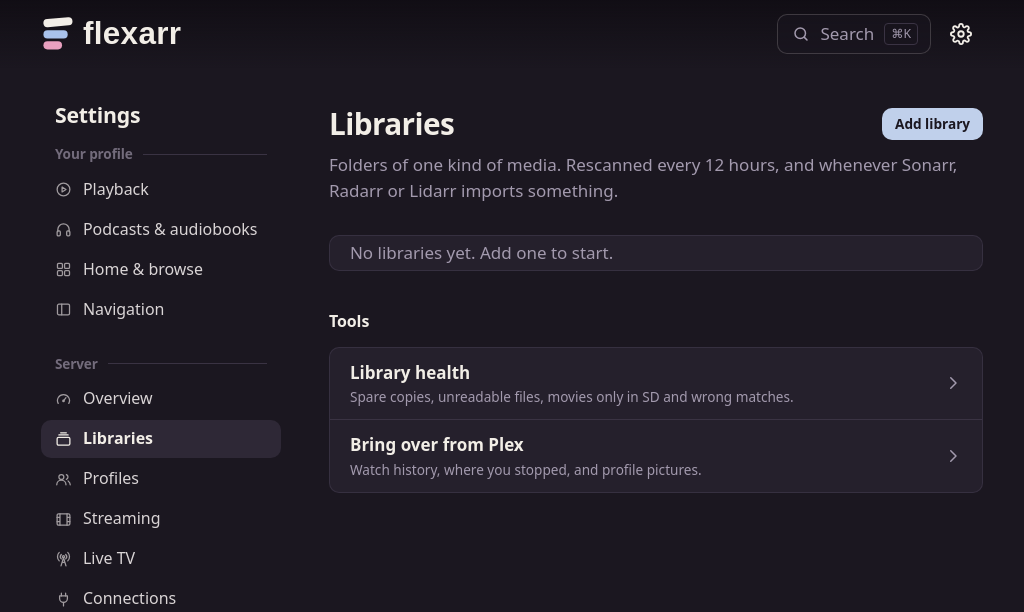
Test case: Settings › shows validation errors from the server when adding a library
The image size is (1024, 612).
Click the button "Add library".
click(932, 124)  # box [882, 108, 983, 140]
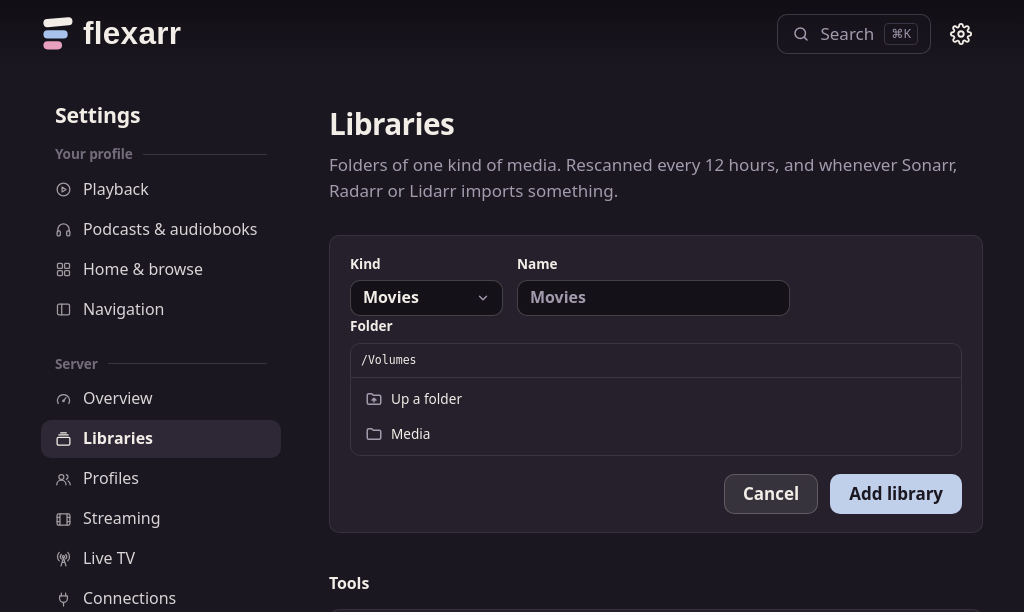
expect the text "/Volumes" is shown: met, box [361, 352, 417, 369]
Click the button "Add library".
click(896, 494)  # box [830, 474, 962, 514]
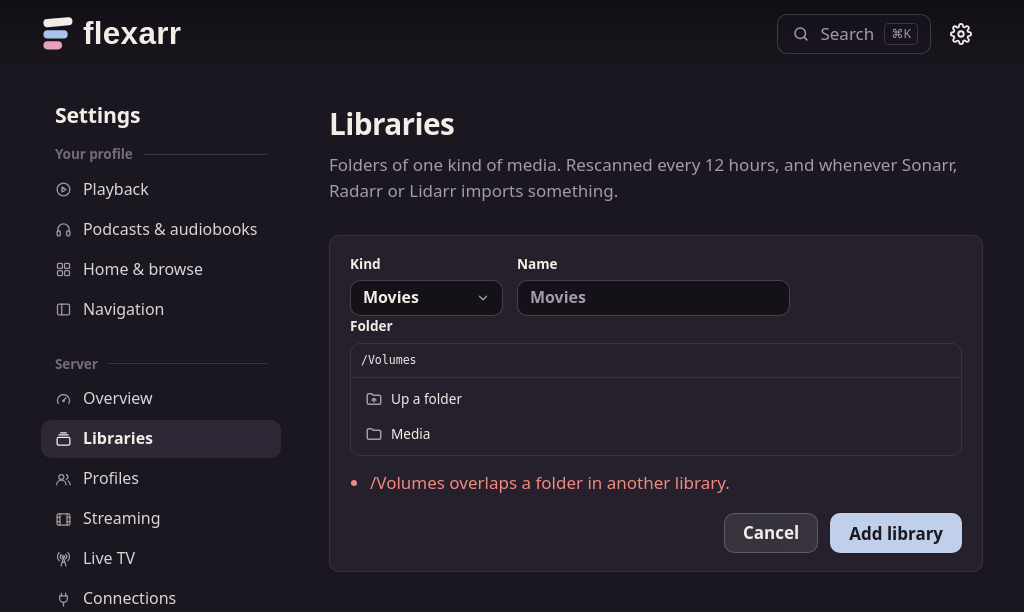
expect the message shows "overlaps a folder in another library": met, box [370, 471, 730, 494]
